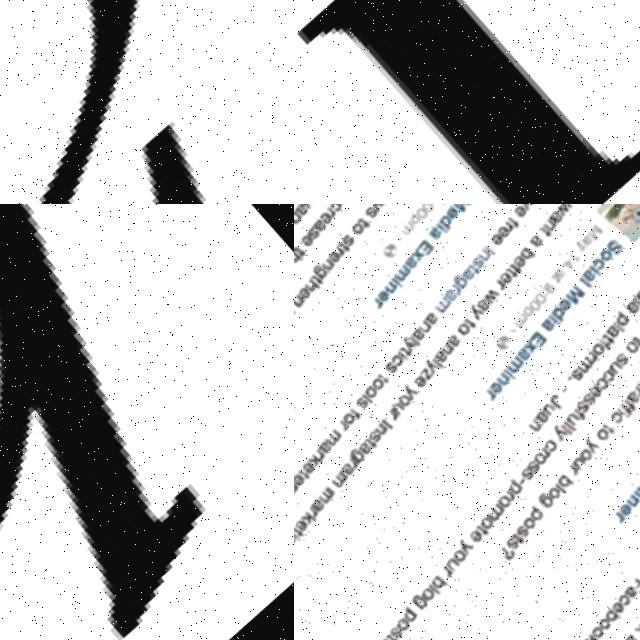0: (413, 207, 430, 226), (527, 301, 544, 319), (532, 295, 549, 312), (418, 204, 436, 219)
1: (567, 253, 582, 270)
4: (559, 261, 577, 280)
9: (540, 284, 557, 302), (427, 204, 444, 208)
A: (0, 0, 294, 204)
I: (294, 0, 640, 204)
